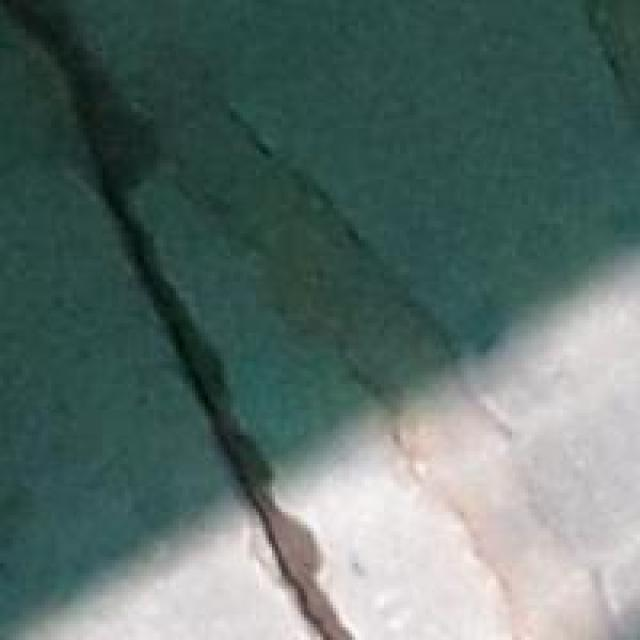Crack: (3, 3, 390, 637)
